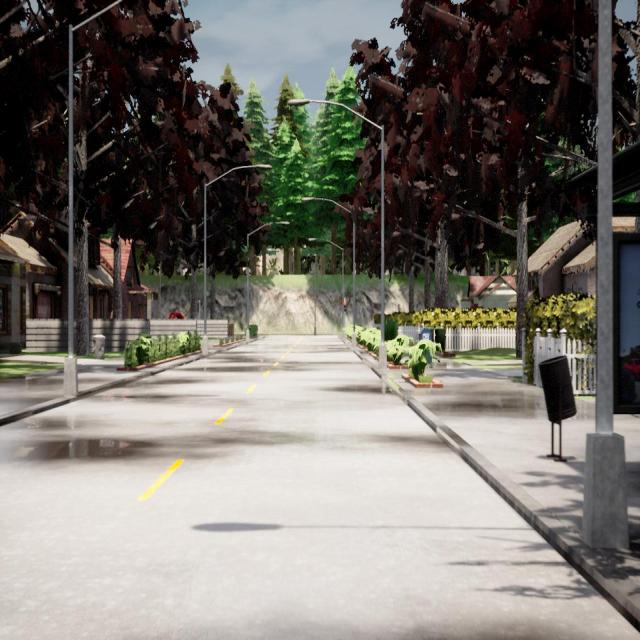traffic_light: (344, 300, 346, 312)
